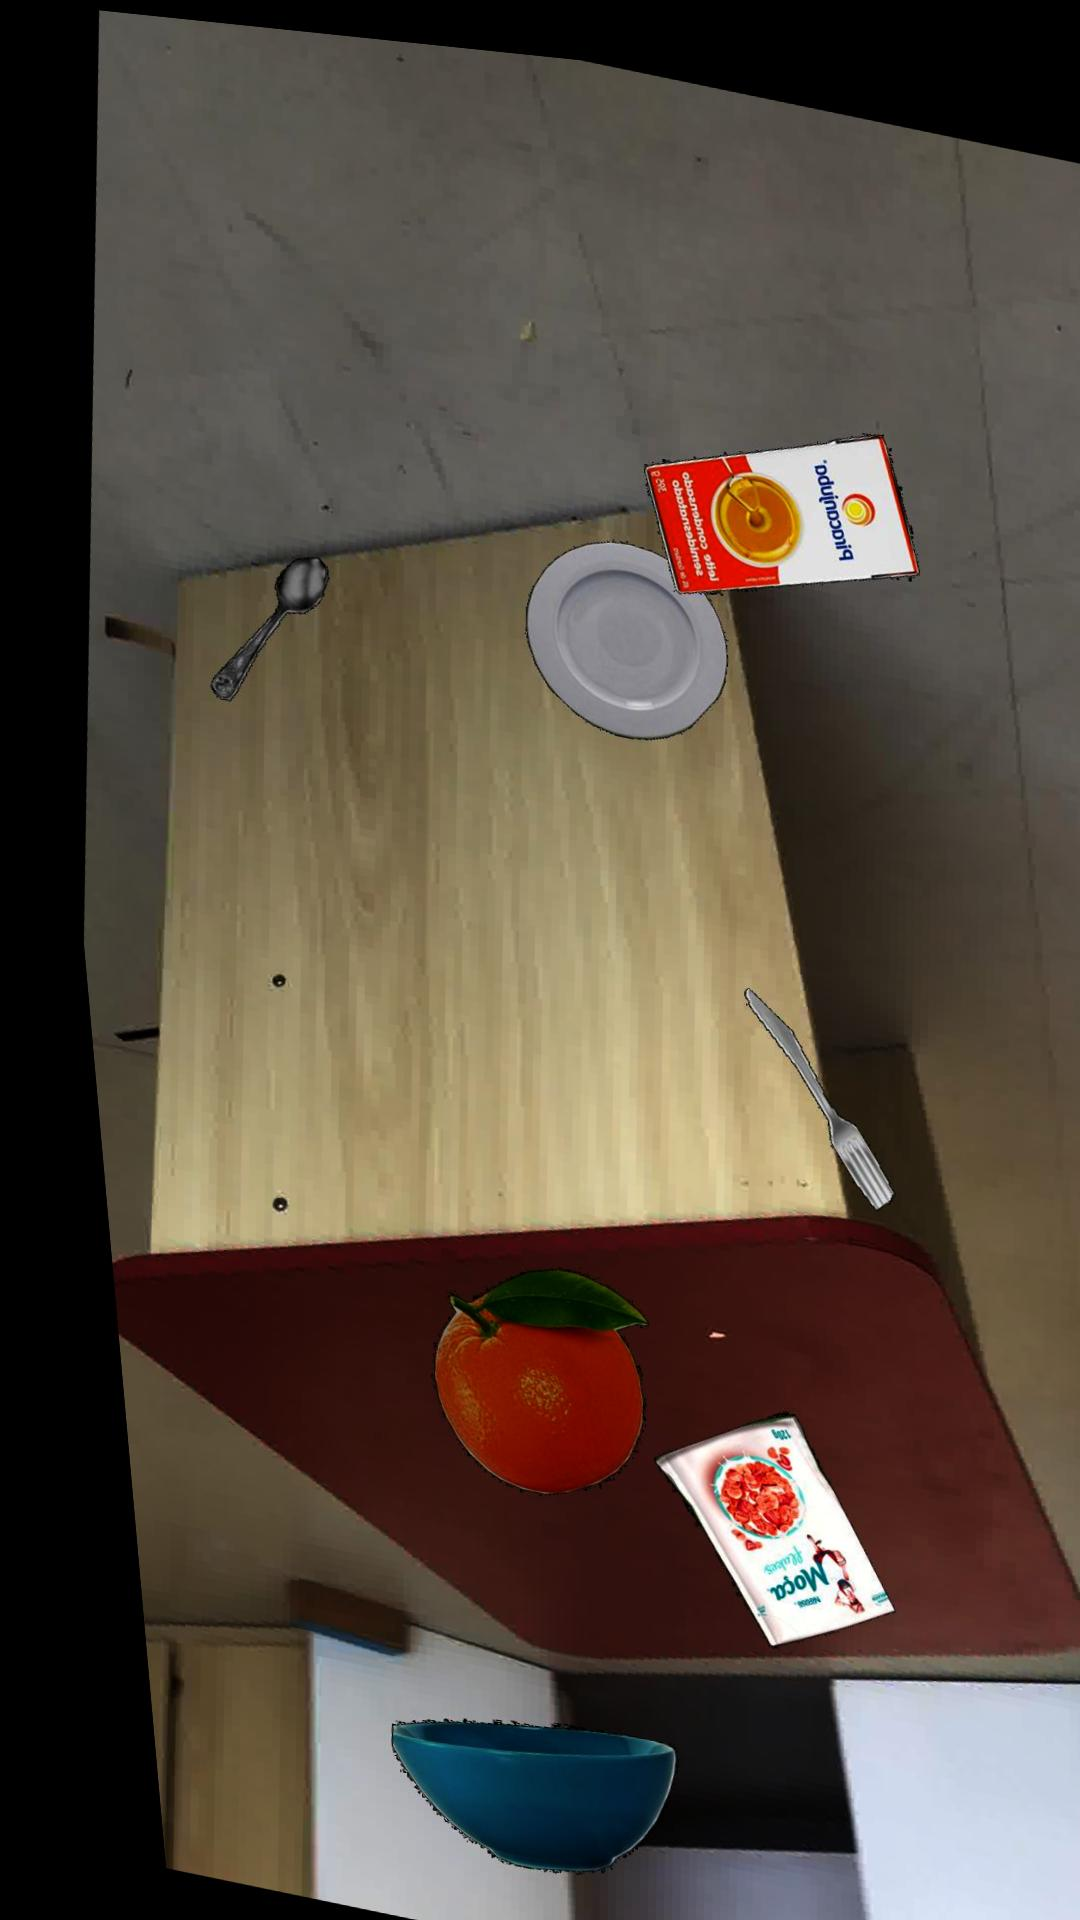bowl: (360, 1713, 646, 1866)
corn flakes: (628, 1399, 866, 1635)
fork: (728, 975, 874, 1195)
orange: (410, 1259, 624, 1486)
plate: (516, 530, 717, 728)
spoon: (199, 551, 319, 698)
